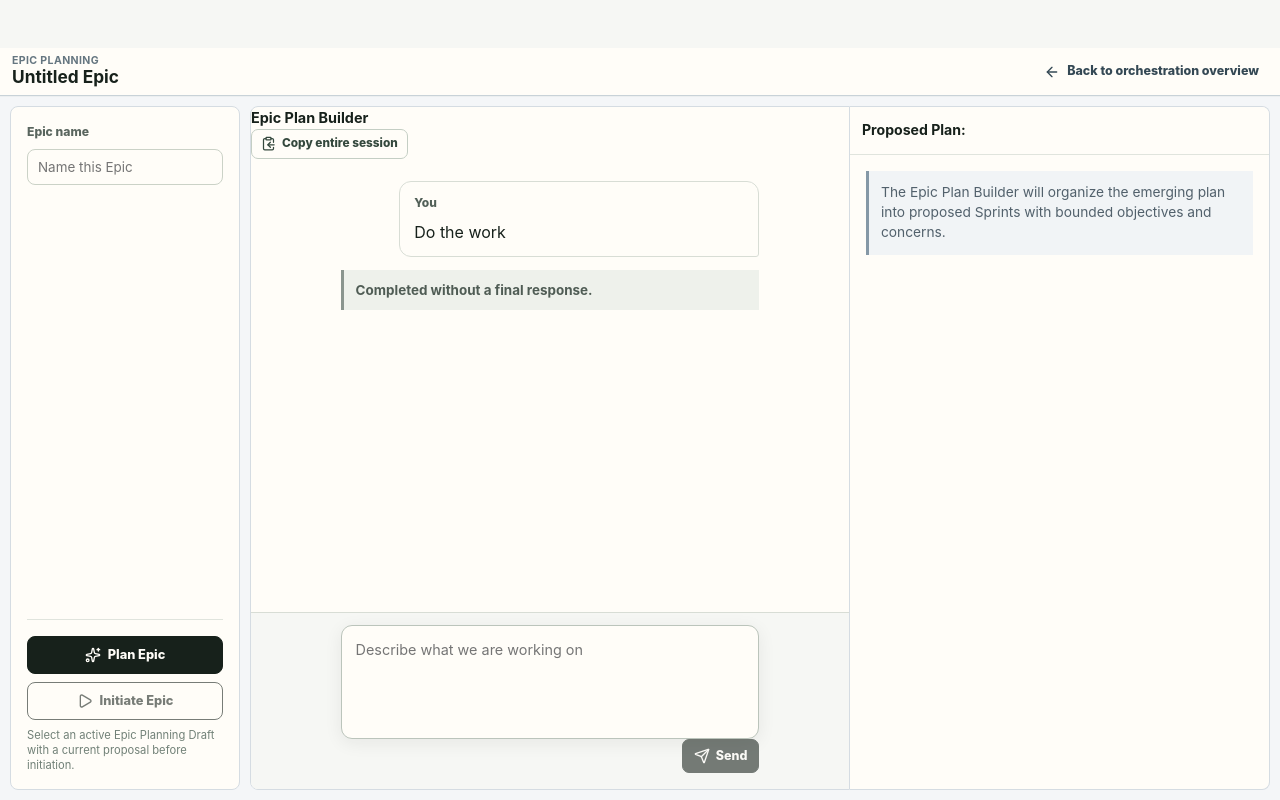
Test: EpicPlanBuilder › renders the product Plan action as Application and does not count it as later user discussion
The image size is (1280, 800).
Click the button "Plan Epic": point(125, 655) [27, 636, 223, 674]
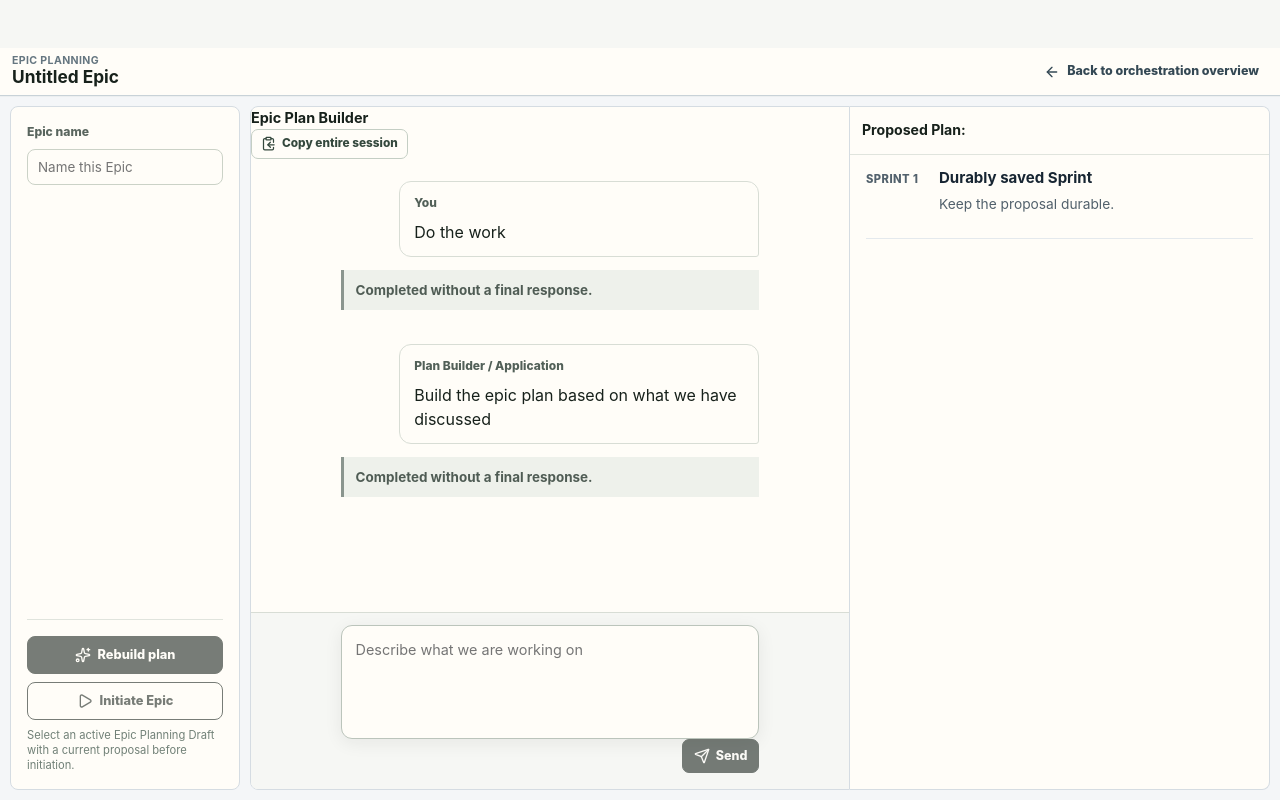
expect the text "Build the epic plan based on what we have discussed" is shown: met, box [414, 383, 744, 431]
expect the text "Plan Builder / Application" is shown: met, box [414, 357, 564, 375]
expect the button "Rebuild plan" is disabled: met, box [27, 636, 223, 674]
